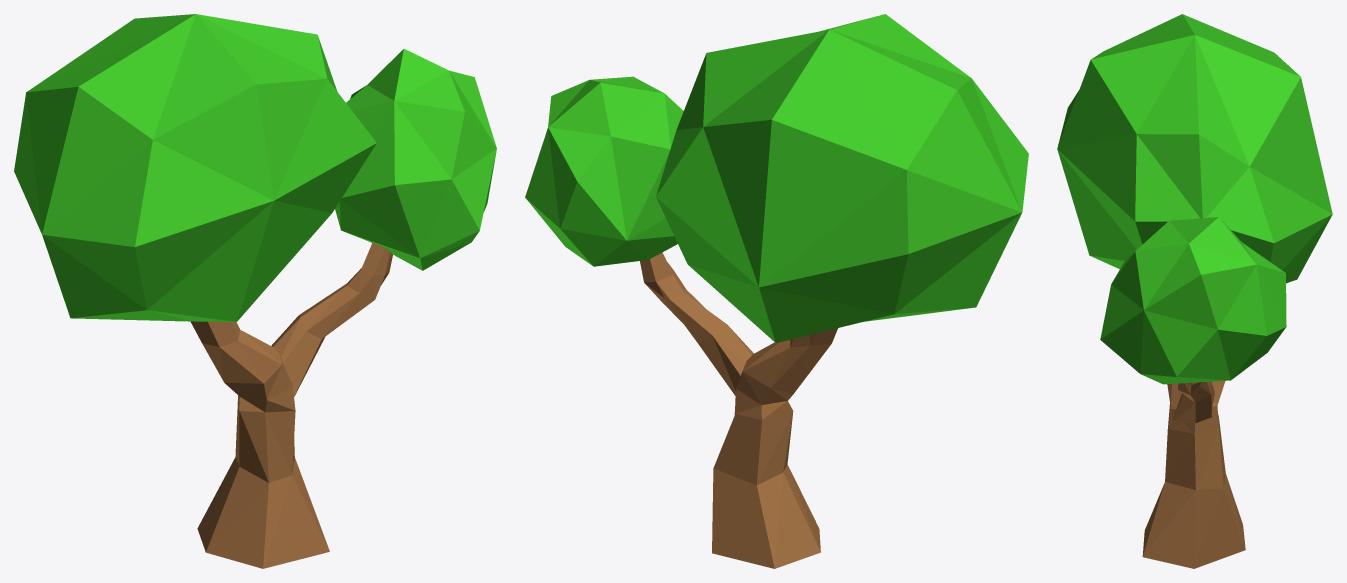
Rendered from tree1.fbx.
The picture shows the model from 3 angles, left to right: view 1: azimuth 30°, elevation 25°; view 2: azimuth 150°, elevation 25°; view 3: azimuth 270°, elevation 25°; orthographic projection. The views are drawn at different scales.
Visible parts, largest first — view 1: tree1; view 2: tree1; view 3: tree1.
Part boxes in pixels (<box>): tree1: <box>14,14,496,568</box>; tree1: <box>525,14,1028,568</box>; tree1: <box>1057,14,1332,568</box>.
Size of the model in its own units: 3.22 by 3.69 by 1.9.
